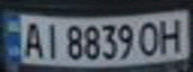3: (100, 21, 121, 61)
8: (81, 21, 103, 61), (63, 21, 84, 61)
9: (115, 20, 139, 60)
A: (18, 18, 45, 58)
H: (154, 15, 187, 54)
I: (39, 20, 63, 60)
O: (136, 18, 163, 56)
